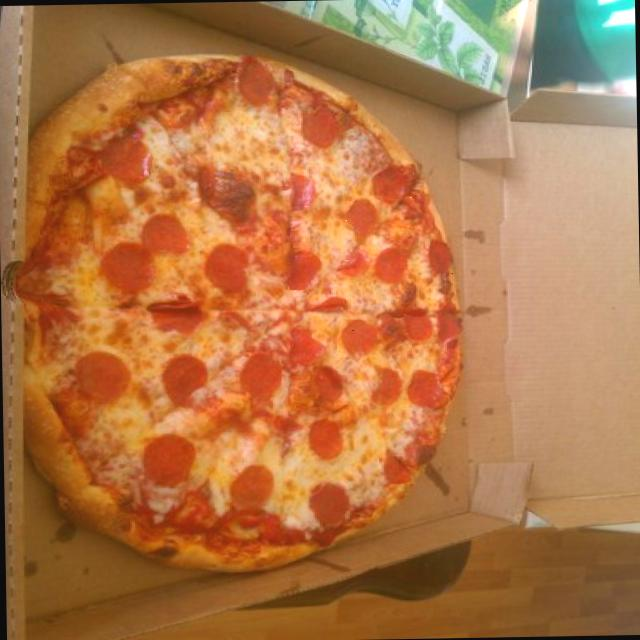pepperoni: (96, 124, 160, 182), (200, 169, 266, 225), (142, 436, 194, 488), (104, 242, 156, 293), (81, 350, 128, 402), (202, 243, 250, 293), (160, 357, 207, 407), (308, 480, 353, 530), (138, 210, 186, 255), (232, 462, 272, 514), (235, 352, 280, 398), (150, 299, 203, 335), (368, 164, 415, 204), (342, 195, 382, 242), (409, 368, 449, 414), (282, 244, 322, 290), (283, 328, 331, 366), (299, 104, 339, 148), (368, 366, 407, 408), (338, 321, 382, 357), (399, 303, 436, 345), (242, 59, 272, 107), (422, 236, 452, 282), (288, 170, 318, 216), (308, 418, 342, 458), (306, 294, 357, 320), (377, 452, 419, 483), (310, 364, 344, 402), (374, 248, 406, 284), (434, 304, 461, 346)
pizza: (6, 58, 461, 570)
